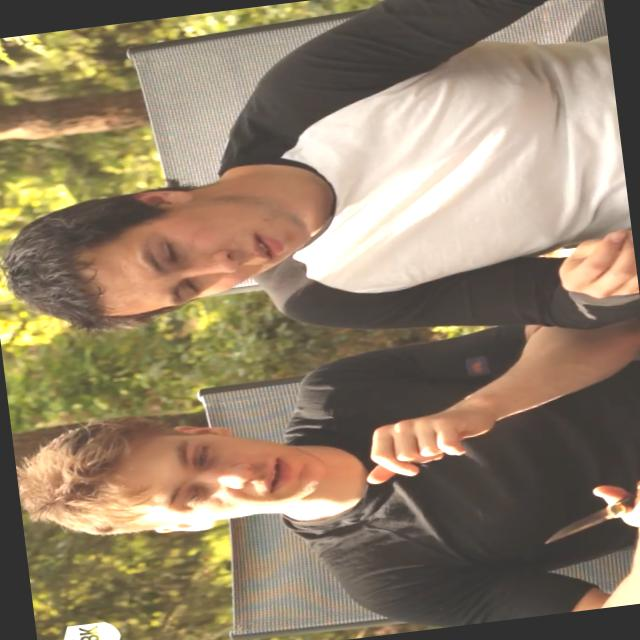knife: (526, 468, 639, 548)
